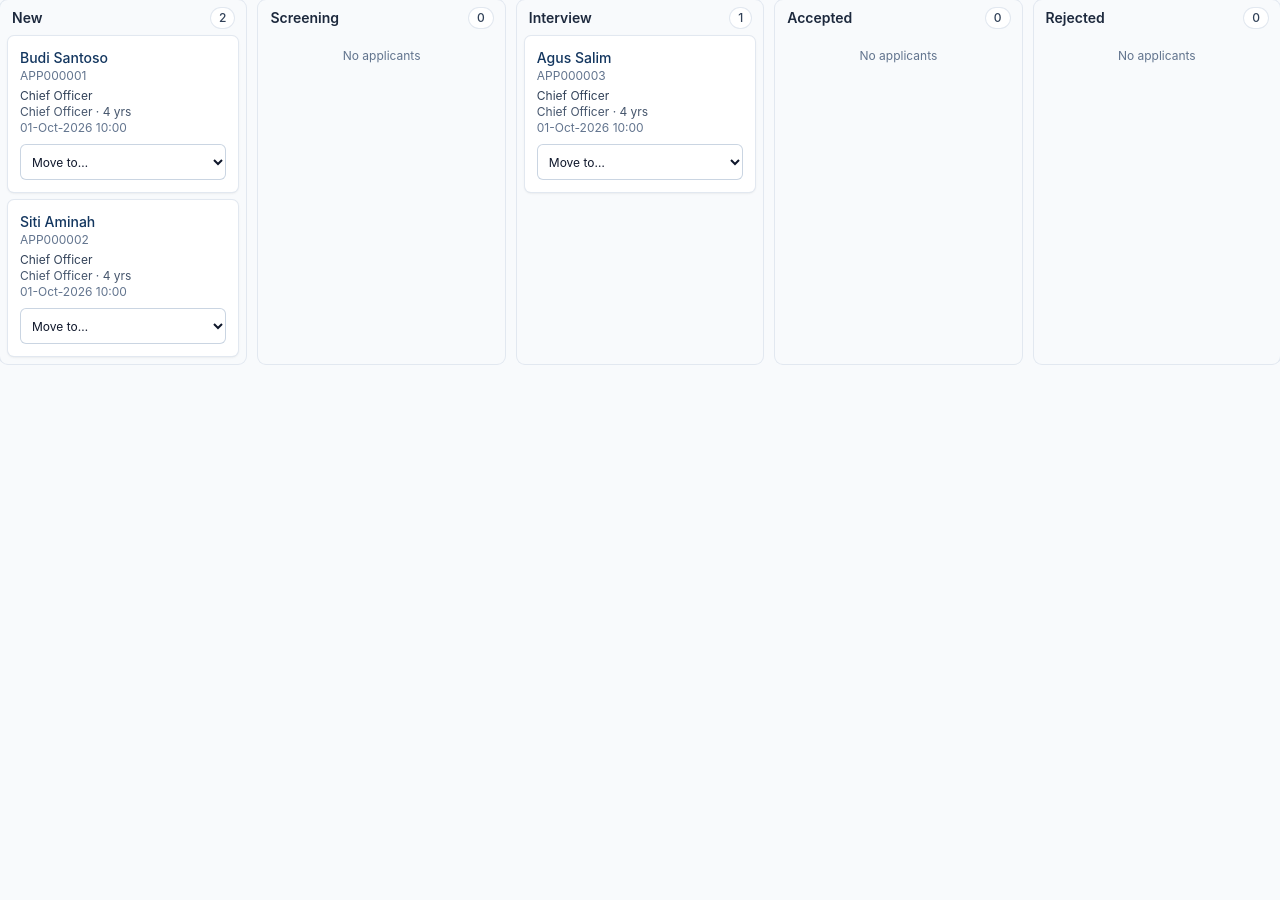
Test: ApplicantKanban › blocks a rejection without a note
The image size is (1280, 900).
Expected: the link "Budi Santoso" is shown, x1=20 y1=49 x2=108 y2=66
Step 1. Select "Rejected" in the dropdown named "Move Budi Santoso to another stage" below "Budi Santoso" → x=123, y=162, box x1=20 y1=144 x2=226 y2=180
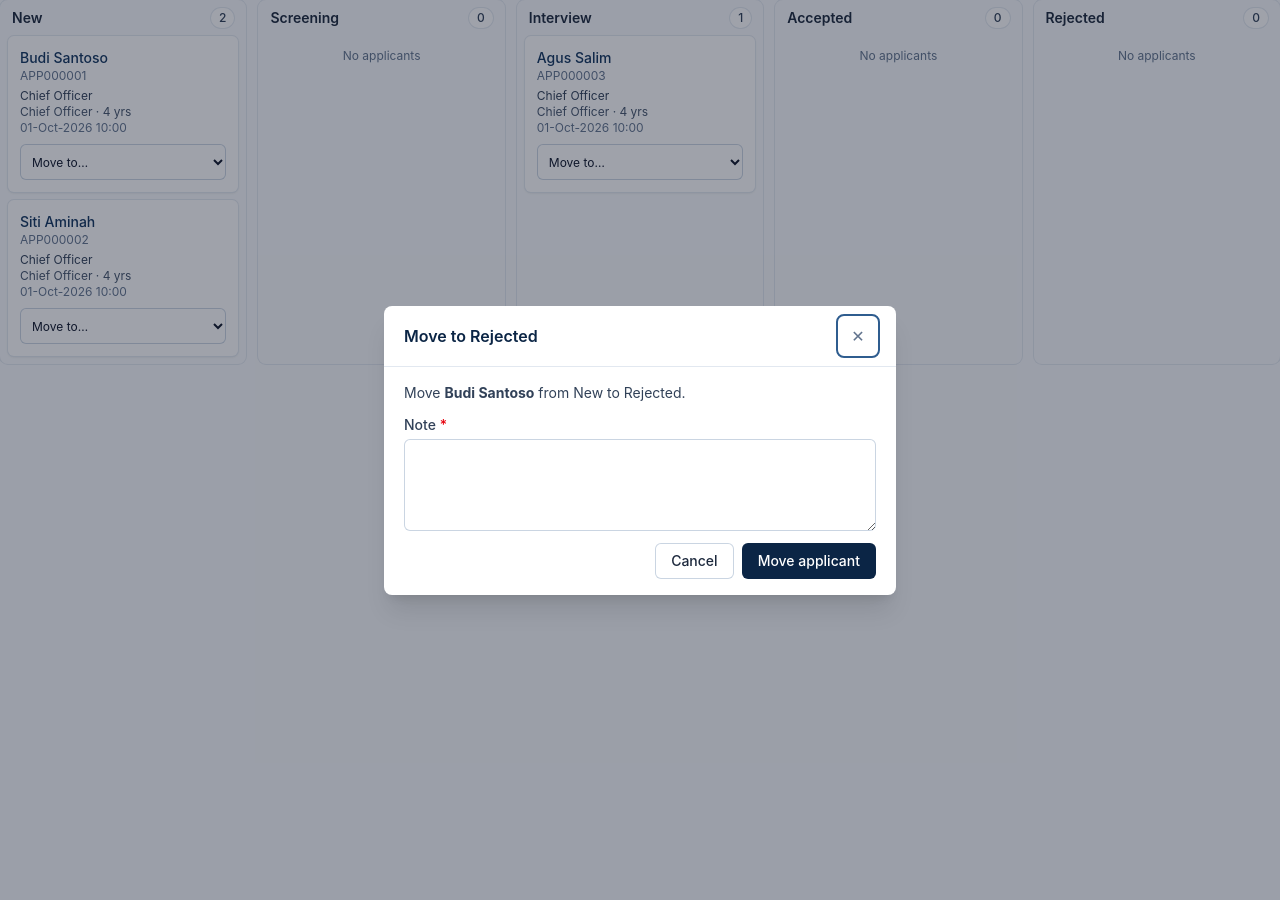
Step 2. Click the button "Move applicant" → x=809, y=560, box x1=742 y1=542 x2=876 y2=578
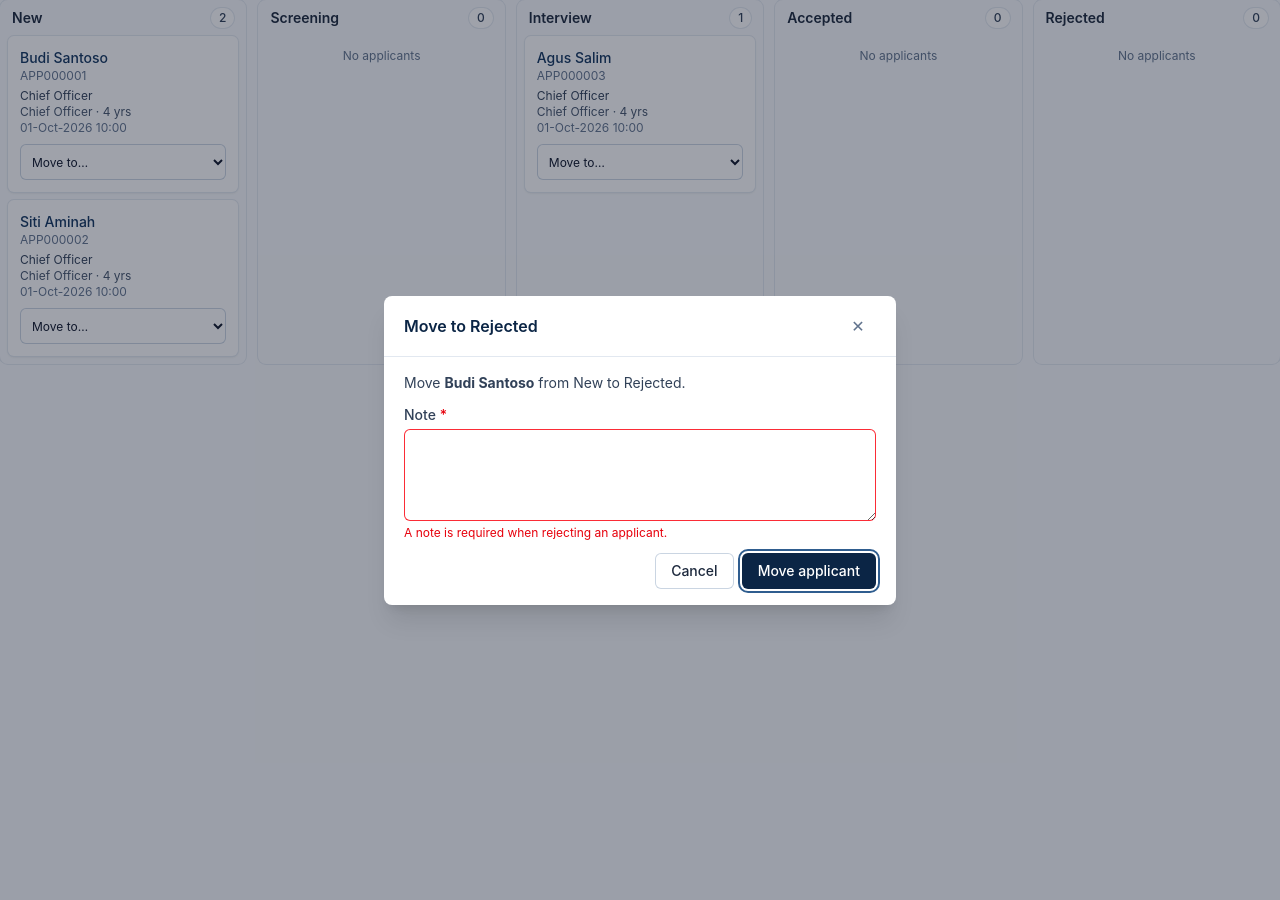
Expected: the text "A note is required when rejecting an applicant." is shown, x1=404 y1=524 x2=667 y2=540
